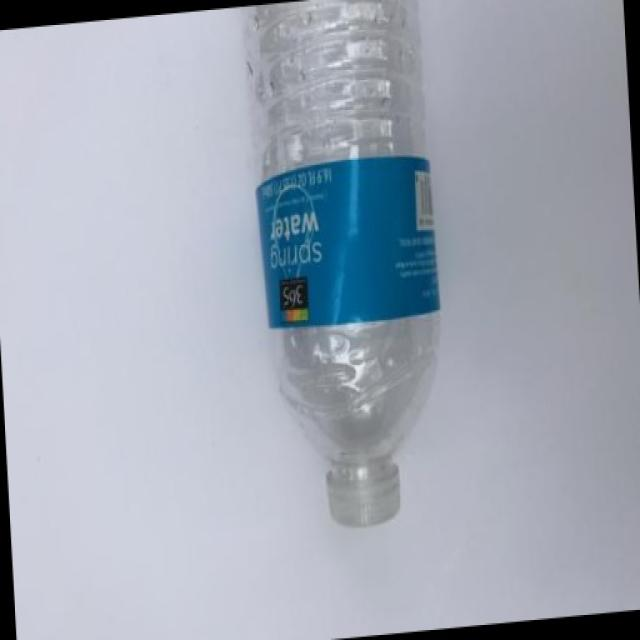plastico: (239, 0, 479, 542)
